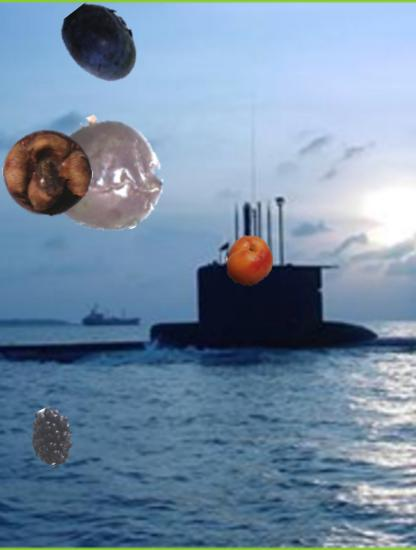Apricot: (224, 235, 276, 287)
Blueberry: (59, 1, 144, 86)
Mangostan: (2, 127, 93, 218)
Mulberry: (23, 408, 80, 465)
Passion: (45, 115, 166, 236)
Salak: (18, 147, 71, 200)
